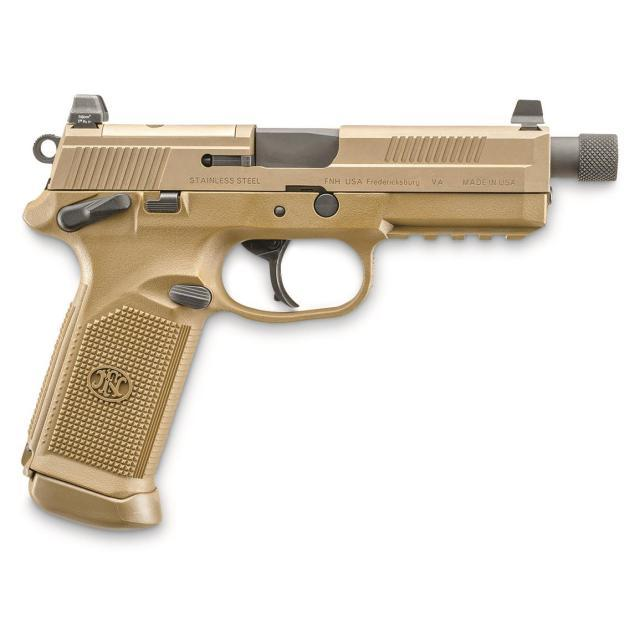Pistol: (10, 73, 635, 562)
